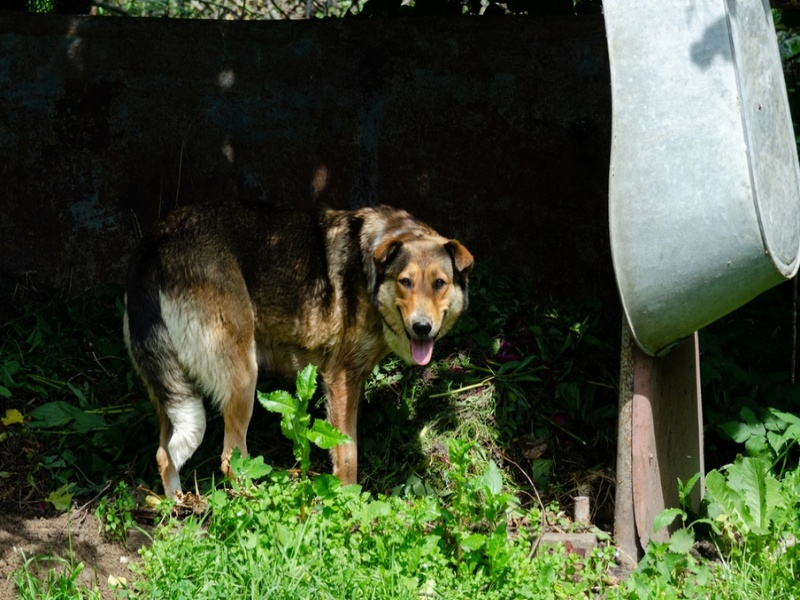dog: (119, 202, 470, 512)
